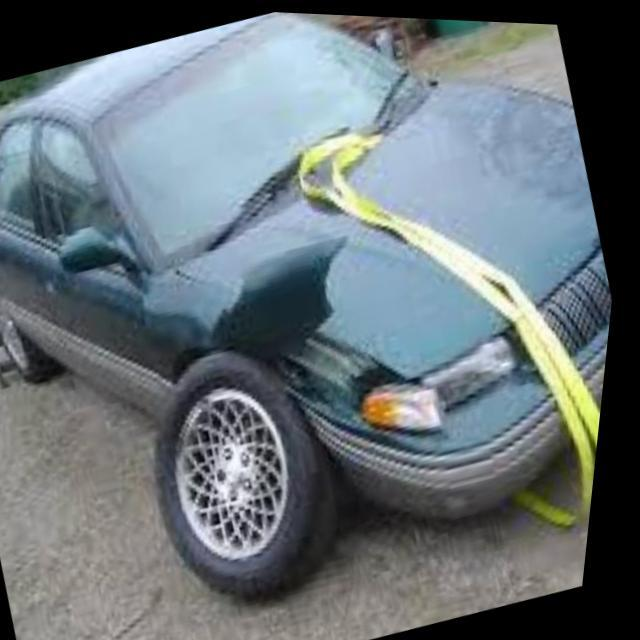dent: (179, 220, 484, 491)
